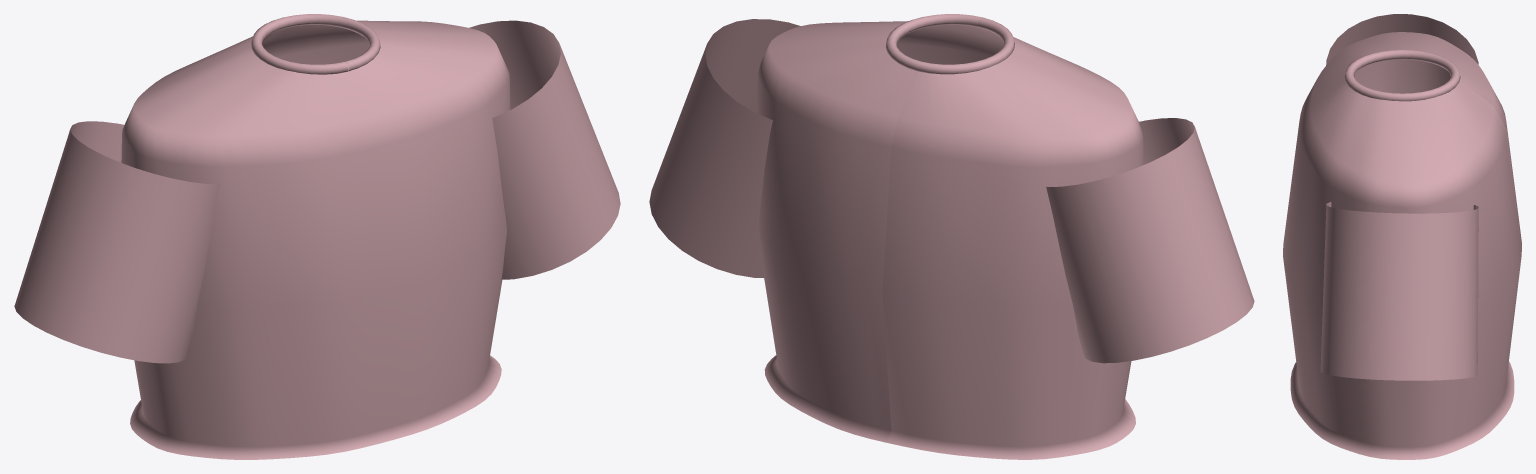
Rendered from t-shirt-wild-cards-homme.glb.
The picture shows the model from 3 angles, left to right: view 1: azimuth 30°, elevation 25°; view 2: azimuth 150°, elevation 25°; view 3: azimuth 270°, elevation 25°; orthographic projection. The views are drawn at different scales.
Parts seen in each view (by area): view 1: edit-02, short-sleeve (×2); view 2: edit-02, short-sleeve (×2); view 3: edit-02, short-sleeve (×2).
Boxes of the visible parts, left/top/right/bottom form: edit-02: left=121, top=14, right=510, bottom=459; short-sleeve (×2): left=14, top=20, right=620, bottom=363; edit-02: left=756, top=14, right=1143, bottom=459; short-sleeve (×2): left=649, top=19, right=1254, bottom=363; edit-02: left=1283, top=32, right=1521, bottom=459; short-sleeve (×2): left=1320, top=14, right=1478, bottom=380.
Bounding box in the file's own units: 0.7063 × 0.4165 × 0.287.
